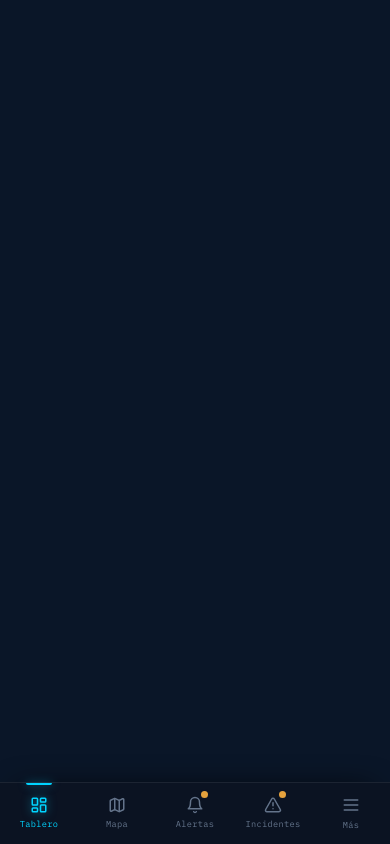
Test: SideNav › abrir 'Más' muestra la hoja con todos los módulos
Click the button with aria-label "Más módulos". click: point(351, 814)
box: 312,783 -> 389,843
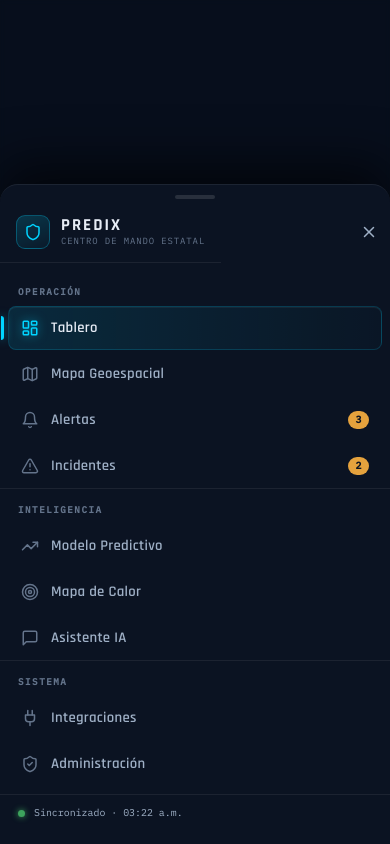
Check: the text "Mapa de Calor" is shown, box 51,582 -> 141,601
